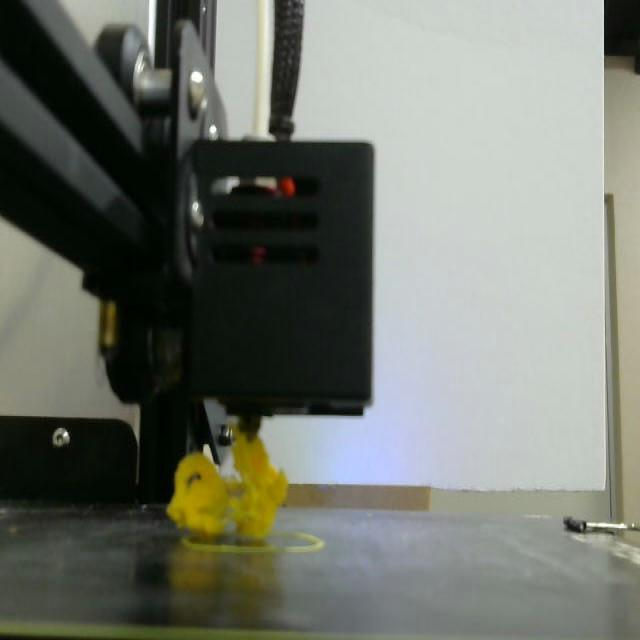spaghetti: (168, 432, 288, 538)
